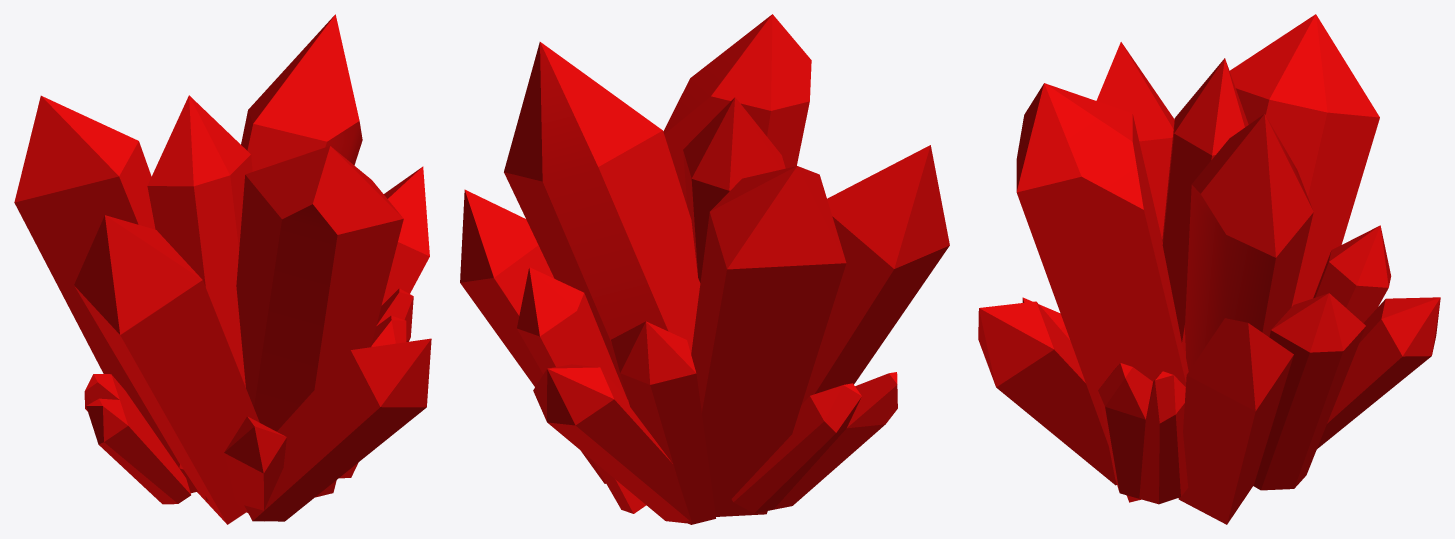
Rendered from gemColorless.fbx.
The picture shows the model from 3 angles, left to right: view 1: azimuth 30°, elevation 25°; view 2: azimuth 150°, elevation 25°; view 3: azimuth 270°, elevation 25°; orthographic projection. The views are drawn at different scales.
Parts seen in each view (by area): view 1: polySurface19; view 2: polySurface19; view 3: polySurface19.
Boxes of the visible parts, x1=… form: polySurface19: x1=14, y1=14, x2=431, y2=524; polySurface19: x1=460, y1=14, x2=949, y2=524; polySurface19: x1=978, y1=14, x2=1440, y2=524.
Bounding box in the file's own units: 62.49 × 65.51 × 63.35.
